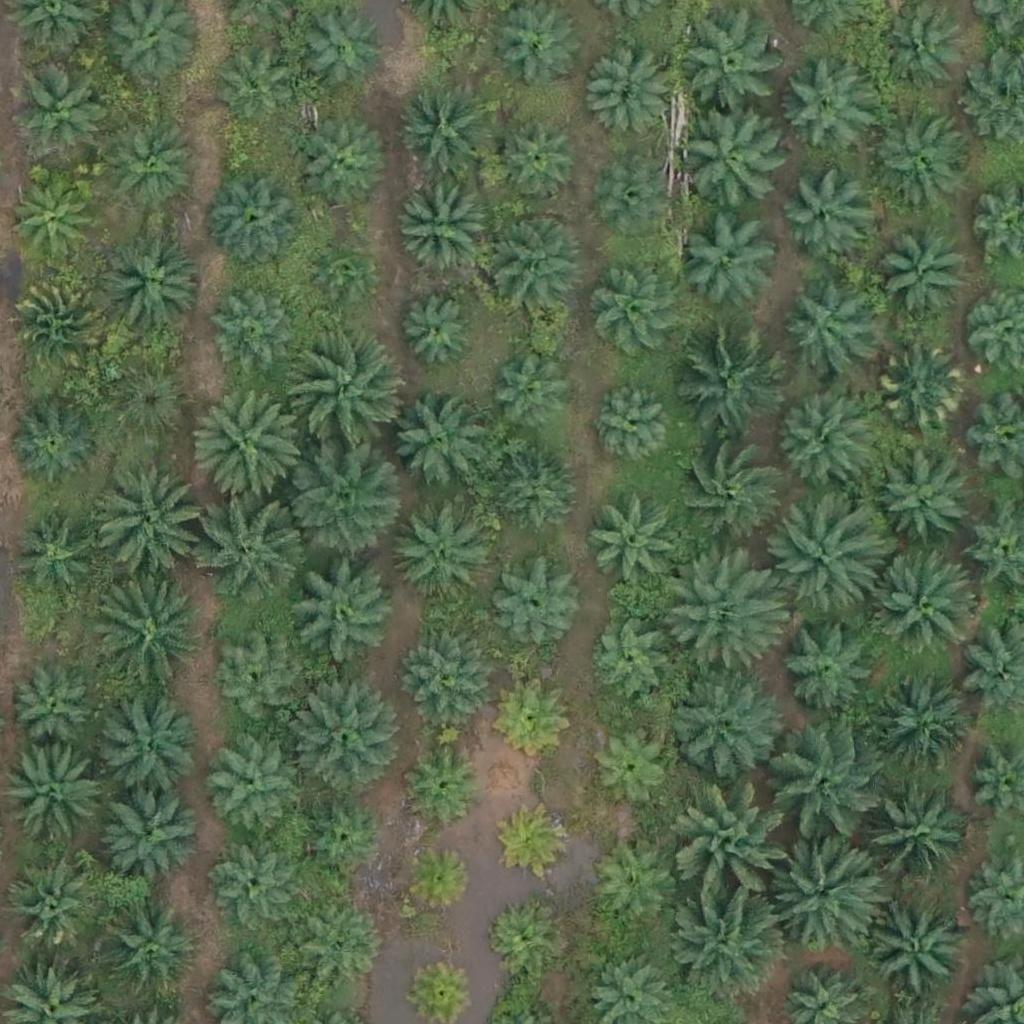Kelapa_Sawit: (857, 783, 970, 897), (91, 468, 204, 582), (674, 106, 787, 220), (774, 729, 887, 842), (673, 887, 786, 1000), (286, 445, 399, 558), (287, 555, 400, 668), (288, 678, 401, 791), (197, 491, 310, 604), (193, 387, 306, 500), (87, 582, 200, 695), (773, 506, 885, 620), (679, 791, 791, 905), (674, 330, 786, 444), (293, 335, 405, 449), (870, 552, 982, 665), (769, 834, 881, 947), (666, 665, 778, 778), (666, 550, 778, 663), (670, 437, 782, 550), (869, 899, 969, 1000), (875, 450, 975, 551), (774, 611, 874, 712), (686, 211, 786, 312), (585, 495, 685, 596), (480, 211, 580, 312), (389, 499, 489, 600), (207, 171, 307, 272), (99, 228, 199, 329), (96, 698, 196, 799), (101, 781, 201, 882), (100, 898, 200, 999), (3, 746, 103, 847), (8, 57, 108, 158), (99, 113, 199, 214), (396, 79, 496, 180), (686, 14, 786, 115), (870, 109, 970, 210), (870, 677, 970, 777), (769, 393, 869, 493), (394, 178, 494, 278), (388, 394, 488, 494), (12, 275, 112, 375), (777, 52, 877, 152), (587, 381, 675, 470), (298, 793, 386, 881), (298, 911, 386, 999), (779, 171, 867, 259), (780, 287, 868, 375), (595, 271, 683, 359), (489, 344, 577, 432), (101, 361, 189, 449), (6, 507, 94, 595), (584, 721, 672, 809), (589, 844, 677, 932), (208, 749, 296, 837), (209, 841, 297, 929), (210, 292, 298, 380), (6, 177, 94, 265), (11, 400, 99, 488), (11, 657, 99, 745), (295, 8, 383, 96), (877, 346, 964, 434), (876, 231, 963, 319), (492, 449, 579, 537), (587, 619, 674, 707), (402, 629, 489, 717), (489, 560, 576, 648), (214, 638, 301, 726), (6, 863, 93, 951), (212, 44, 299, 132), (302, 124, 389, 212), (495, 116, 582, 204), (585, 51, 672, 139), (875, 7, 962, 95), (399, 294, 474, 370), (483, 899, 558, 975), (599, 161, 674, 237), (498, 803, 573, 879), (408, 745, 483, 820), (400, 842, 475, 917), (498, 681, 573, 756), (310, 238, 372, 301)
